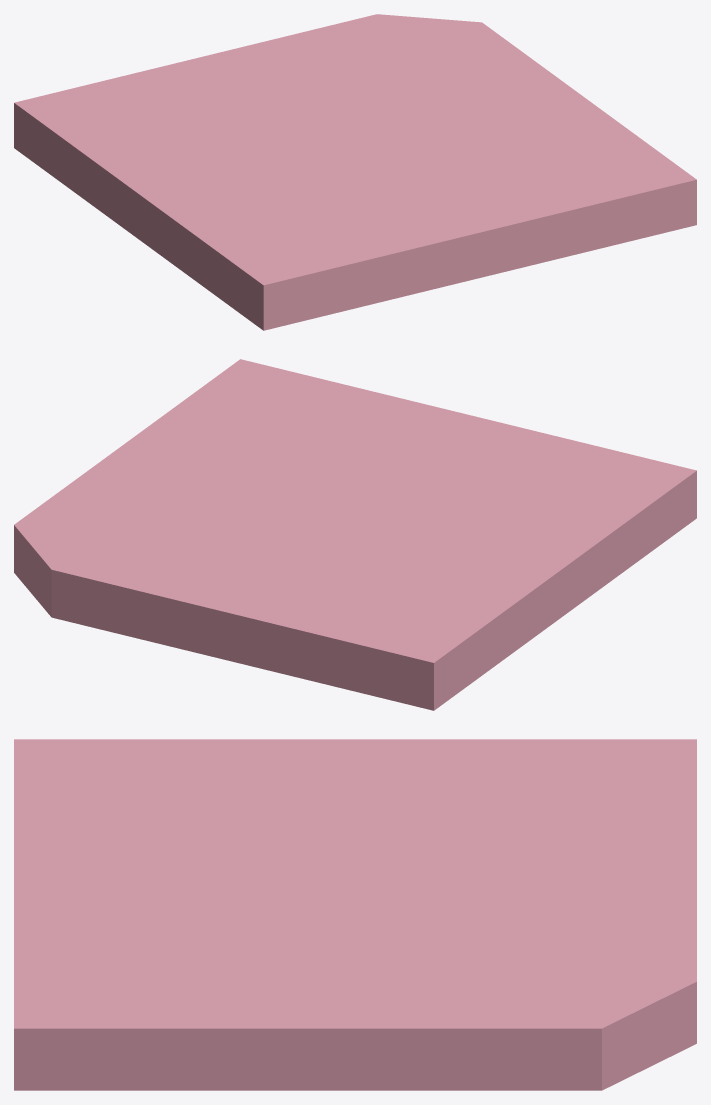
Rendered from FloppyDisk.fbx.
3 renders of one model, top to bottom at view 1: azimuth 30°, elevation 25°; view 2: azimuth 150°, elevation 25°; view 3: azimuth 270°, elevation 25°, orthographic. The views are drawn at different scales.
Parts seen in each view (by area): view 1: FloppyDisk; view 2: FloppyDisk; view 3: FloppyDisk.
Part boxes in pixels (bbox=[...]): FloppyDisk: bbox=[14, 14, 696, 330]; FloppyDisk: bbox=[14, 359, 696, 710]; FloppyDisk: bbox=[14, 739, 696, 1090].
Size of the model in its own units: 16.02 by 1.6 by 15.98.
